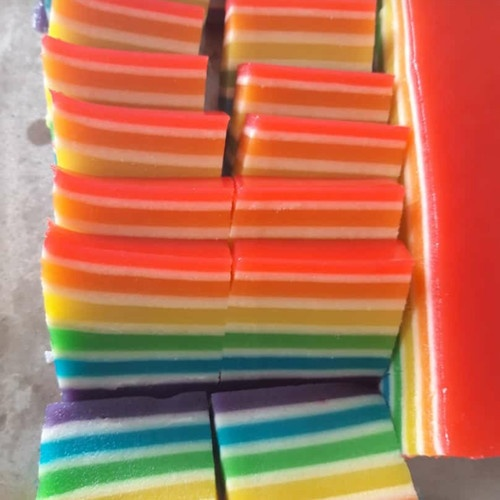kue_lapis_pelangi: (39, 222, 225, 400), (217, 238, 417, 390), (209, 384, 421, 498), (35, 391, 220, 500)
